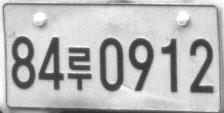0: (99, 37, 124, 92)
1: (158, 38, 186, 92)
2: (189, 37, 214, 93)
4: (37, 37, 64, 90)
8: (11, 35, 35, 89)
9: (127, 36, 155, 92)
루: (67, 46, 92, 91)
